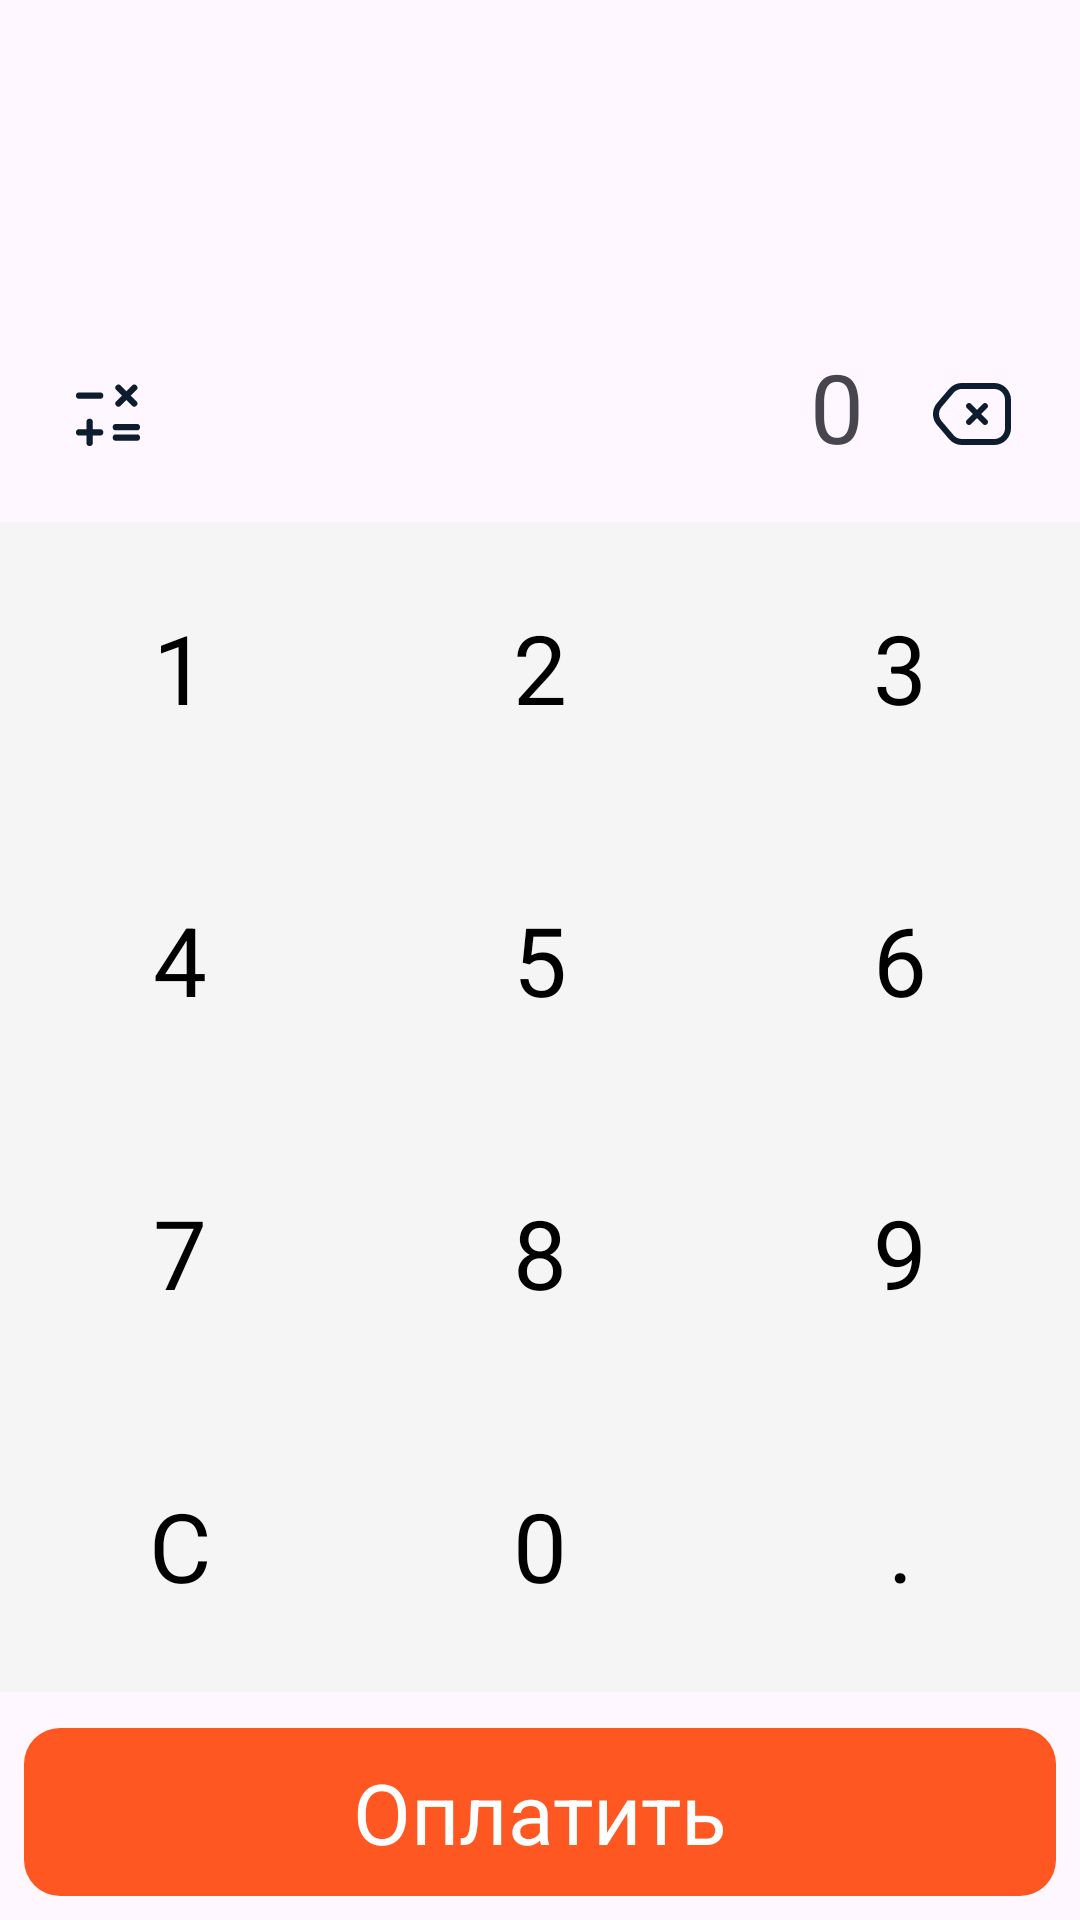

Locate icon controls on the screen. Image size 1080×1920, boxes as (x1, y1, x2, y2).
Калькулятор: (76, 384, 140, 446)
Удалить символ: (933, 383, 1011, 445)
